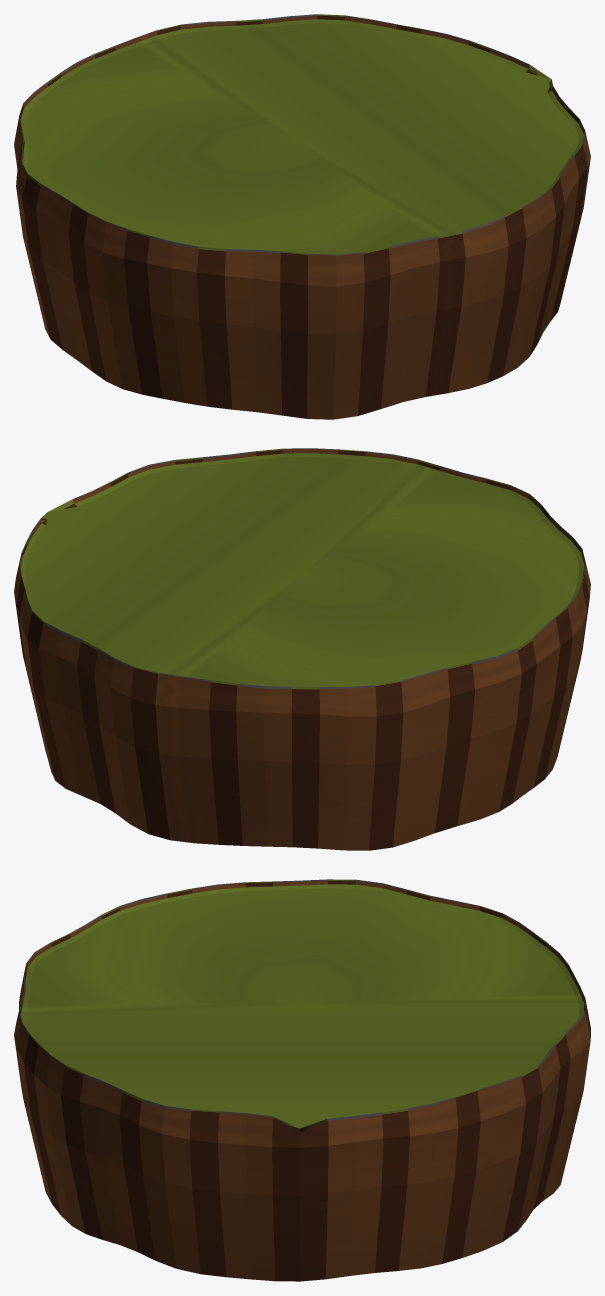
File: Island.fbx
3 views of the same model, one above another, from view 1: azimuth 30°, elevation 25°; view 2: azimuth 150°, elevation 25°; view 3: azimuth 270°, elevation 25° (orthographic).
Parts seen in each view (by area): view 1: Island.001; view 2: Island.001; view 3: Island.001.
Part boxes in pixels (x1,y1,x2,y2): Island.001: (14, 14, 590, 419); Island.001: (14, 448, 590, 850); Island.001: (14, 879, 590, 1281).
Bounding box in the file's own units: 205 × 68.67 × 204.
Materials: 1 (1 with a texture image).
